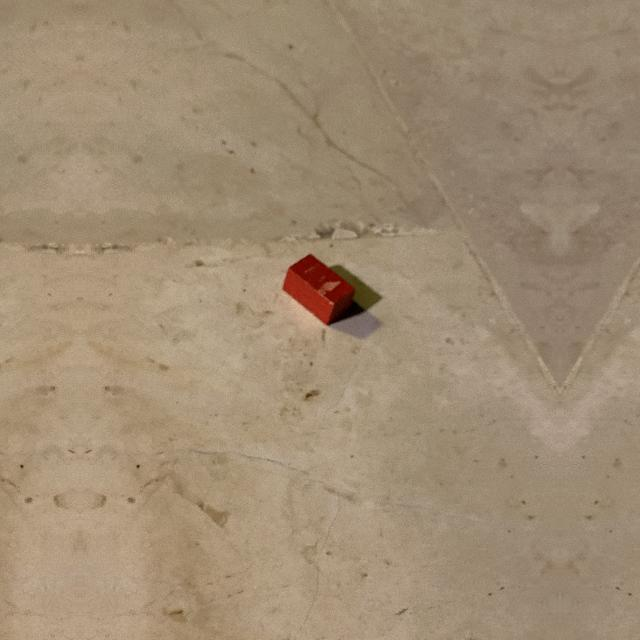red block: (283, 254, 355, 325)
